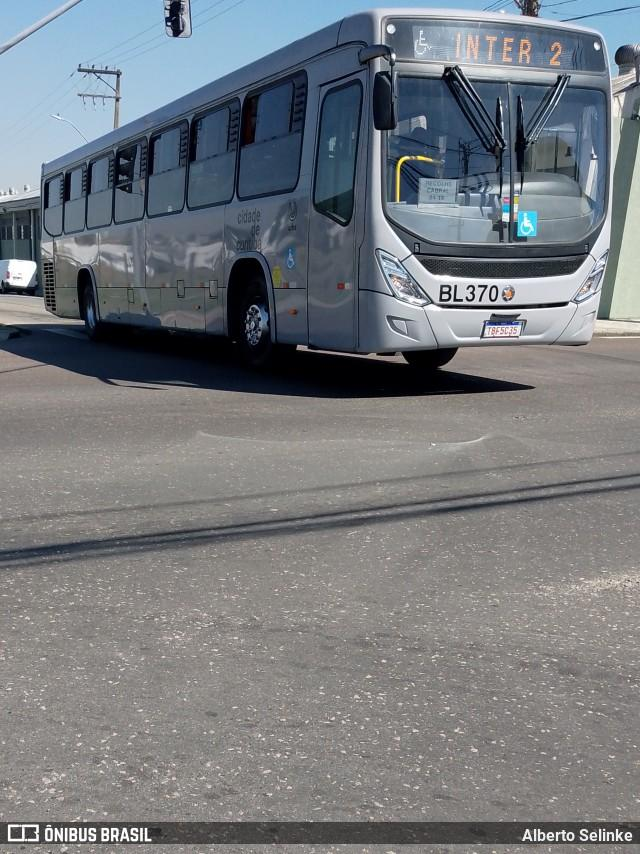INTER2: (443, 23, 573, 71)
